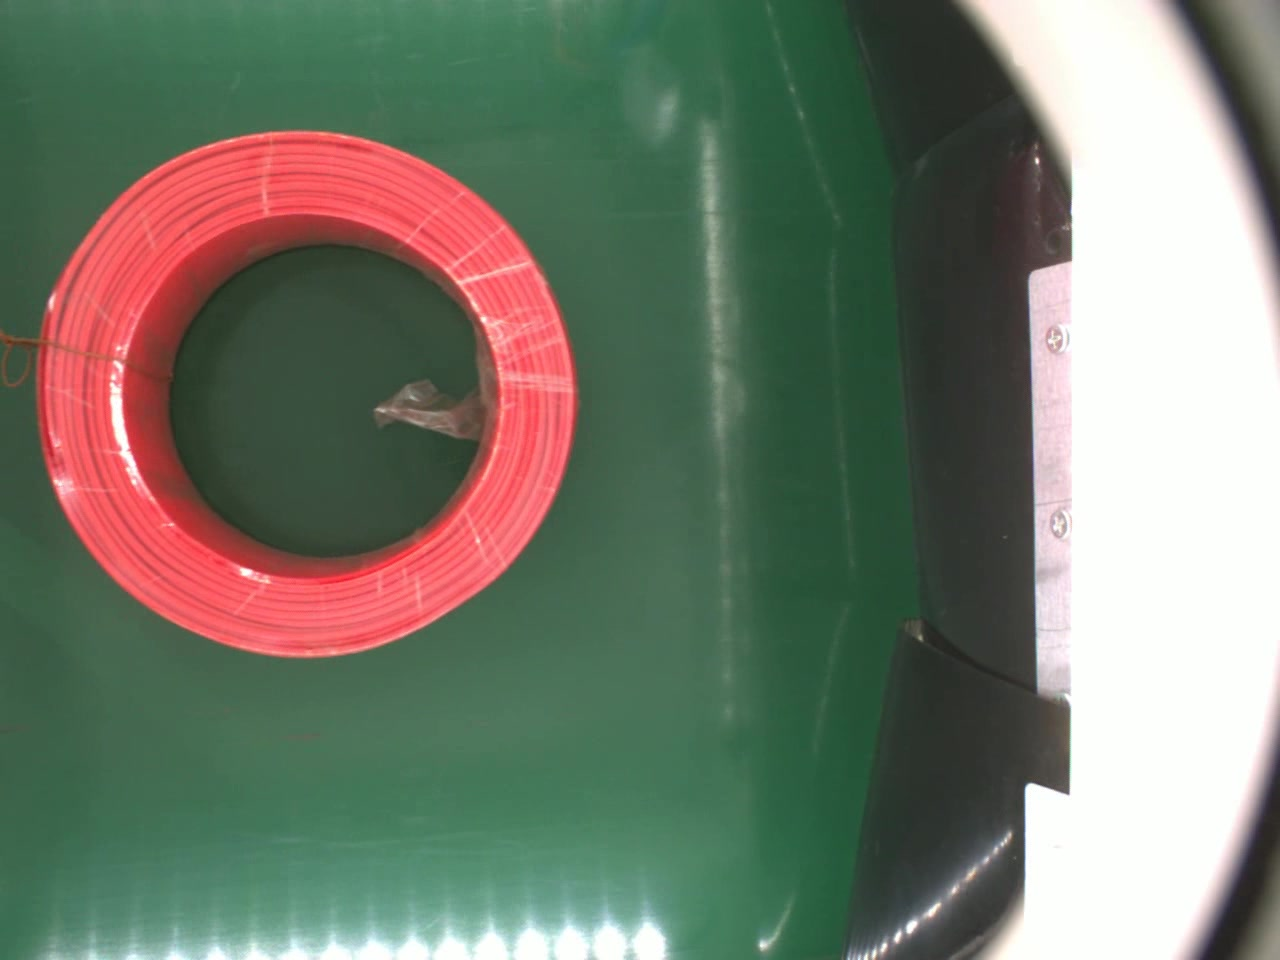red: (31, 126, 583, 663)
